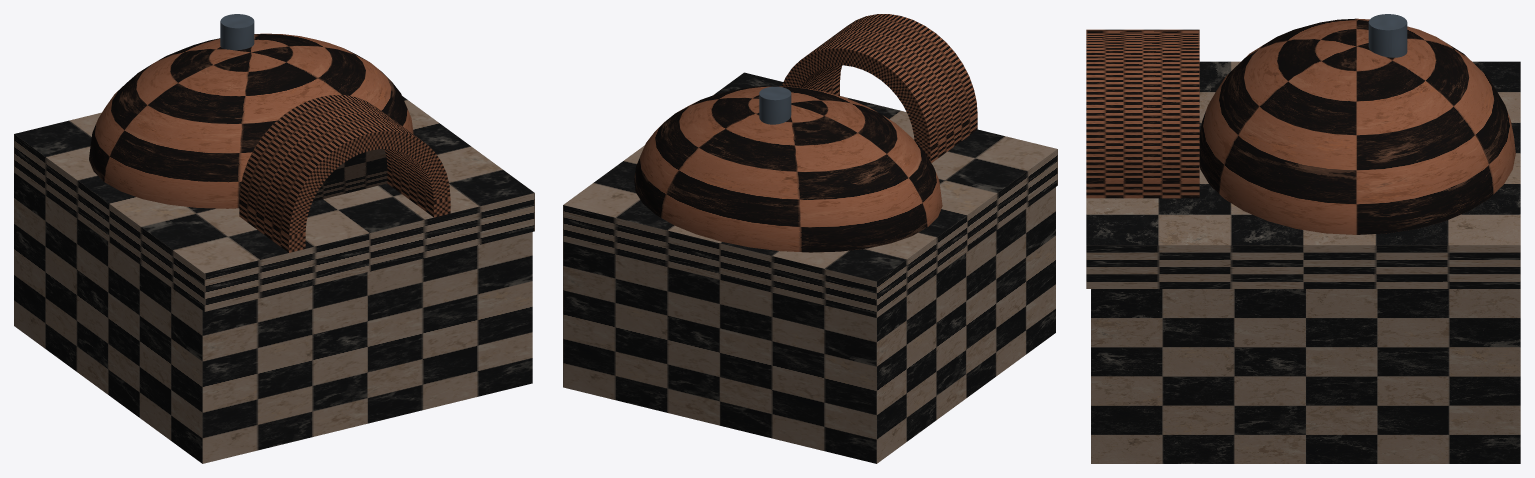
File: oven-line-01.glb
The picture shows the model from 3 angles, left to right: view 1: azimuth 30°, elevation 25°; view 2: azimuth 150°, elevation 25°; view 3: azimuth 270°, elevation 25°; orthographic projection. The views are drawn at different scales.
Visible parts, largest first — view 1: base, hearth, dome, intake-arch, firebox-back, chimney; view 2: base, dome, hearth, intake-arch, chimney; view 3: base, dome, hearth, intake-arch, chimney.
Boxes of the visible parts, <box> form: base: <box>14,172,532,463</box>; hearth: <box>14,96,534,311</box>; dome: <box>89,33,413,208</box>; intake-arch: <box>239,95,450,252</box>; firebox-back: <box>312,149,387,201</box>; chimney: <box>220,14,254,50</box>; base: <box>563,187,1055,463</box>; dome: <box>634,86,942,252</box>; hearth: <box>563,72,1057,317</box>; intake-arch: <box>782,14,977,162</box>; chimney: <box>759,86,791,124</box>; base: <box>1091,289,1520,463</box>; dome: <box>1199,18,1515,234</box>; hearth: <box>1086,61,1520,288</box>; intake-arch: <box>1086,29,1199,198</box>; chimney: <box>1368,14,1407,57</box>.
Bounding box in the file's own units: 1.8 × 1.6 × 1.8.
Materials: 4 (4 with a texture image).
